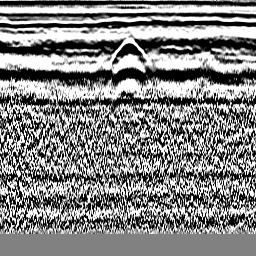cavity: (105, 35, 150, 68)
